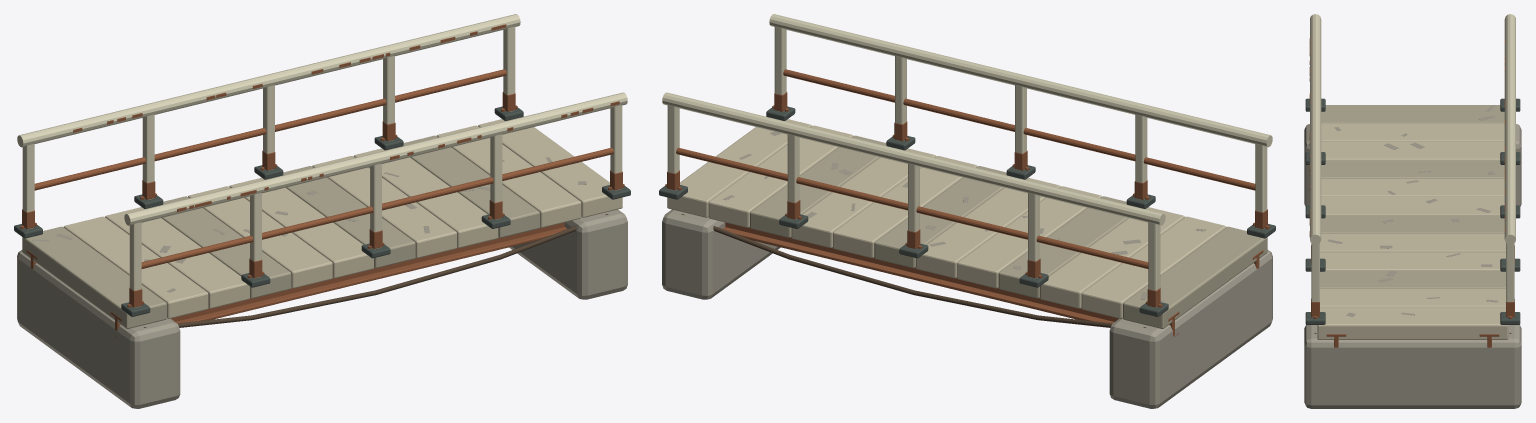
Rendered from Small_Bridge_Barren.glb.
3 views of the same model, side by side, from view 1: azimuth 30°, elevation 25°; view 2: azimuth 150°, elevation 25°; view 3: azimuth 270°, elevation 25° (orthographic). The views are drawn at different scales.
Visible parts, largest first — view 1: Structure; view 2: Structure; view 3: Structure.
Boxes of the visible parts, bbox=[...] form: Structure: bbox=[14, 14, 630, 408]; Structure: bbox=[659, 14, 1275, 408]; Structure: bbox=[1304, 14, 1521, 408].
Size of the model in its own units: 6.03 by 2.25 by 2.5.
